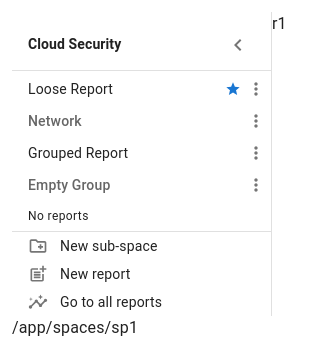
SpaceDetail › remounts the report pane when the selected report changes
The image size is (332, 353).
Click the button "Grouped Report" at x=78, y=153, box x1=28 y1=145 x2=128 y2=161
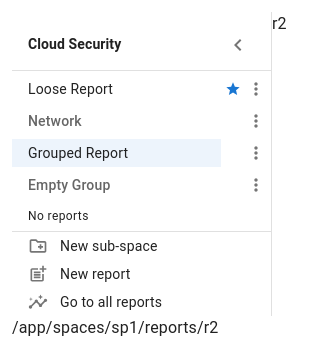
Expected: the text with test id "report-pane" reads "r2", x1=272 y1=14 x2=287 y2=33
